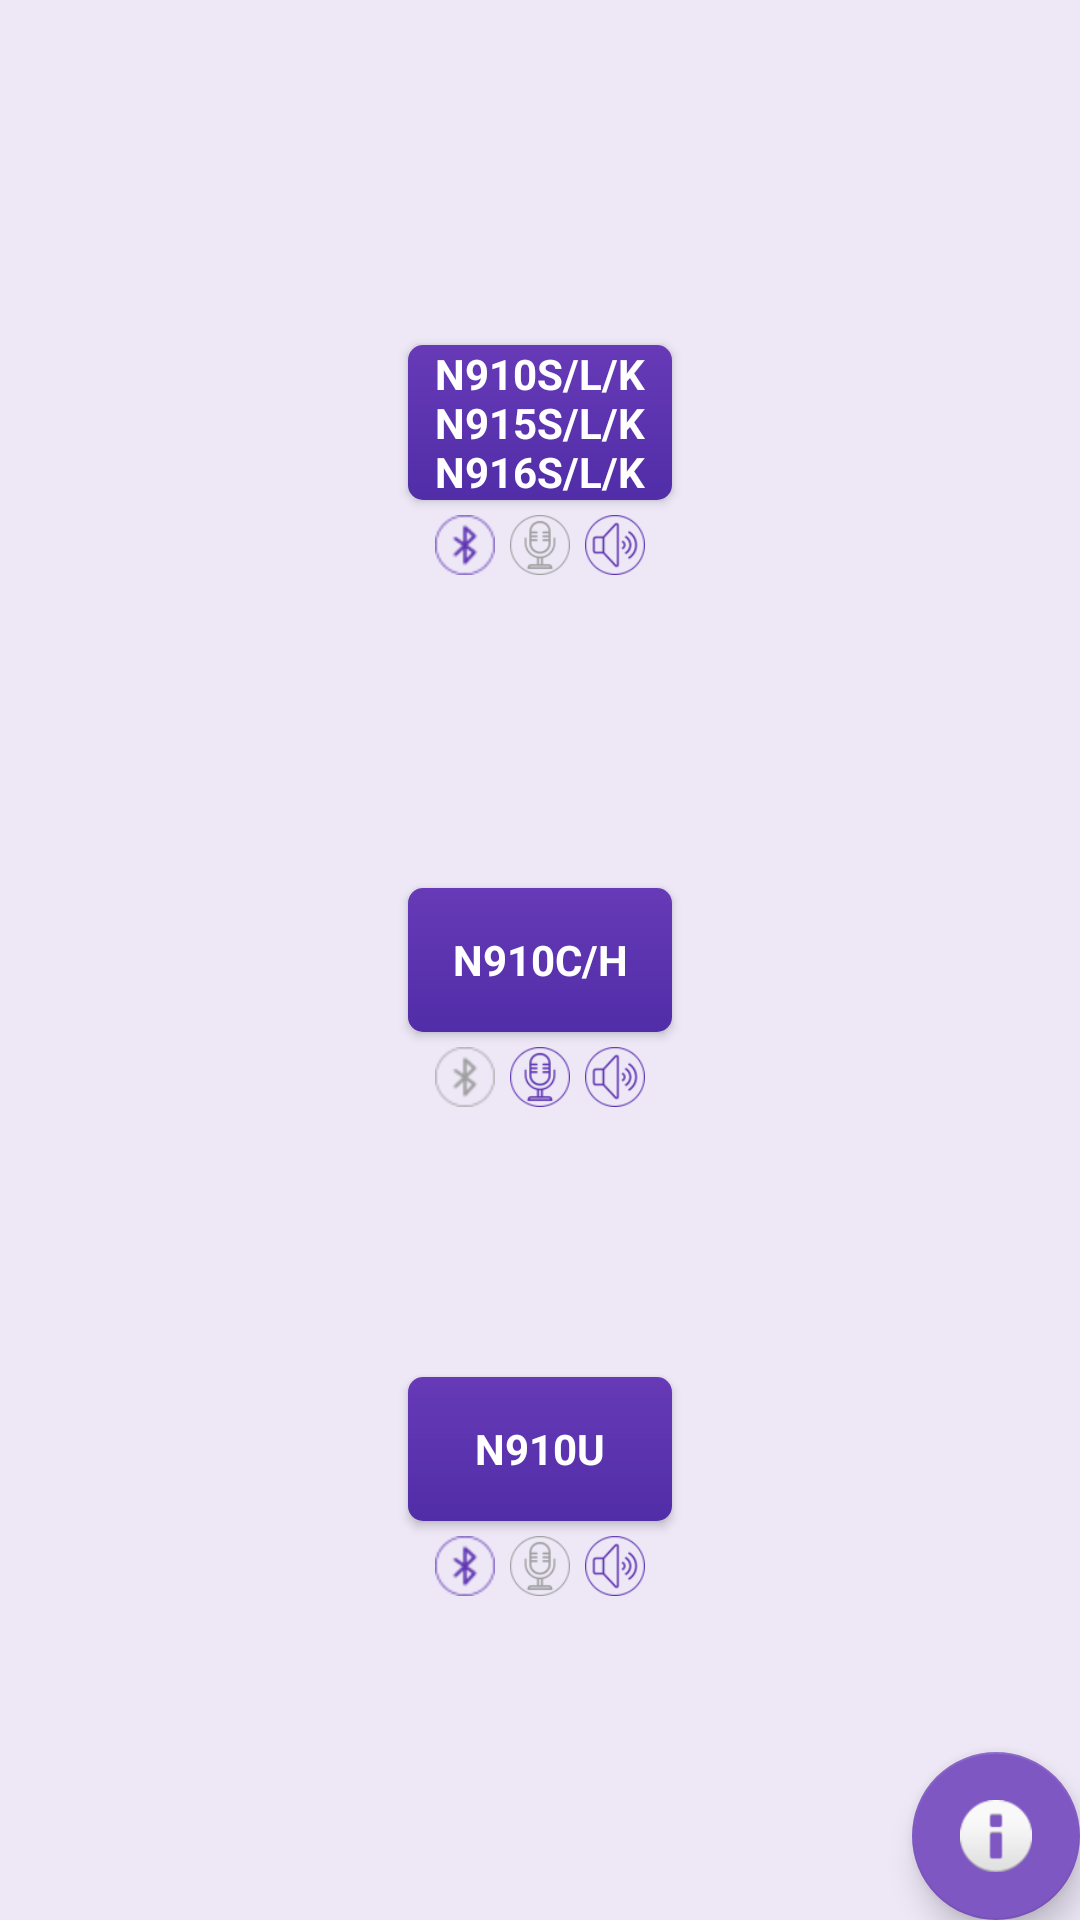

Where to tap for icons on this 1080px x 1920px app screen, as (x,y):
info: (996,1836)
mic off: (540,545), (540,1566)
mic on: (540,1077)
